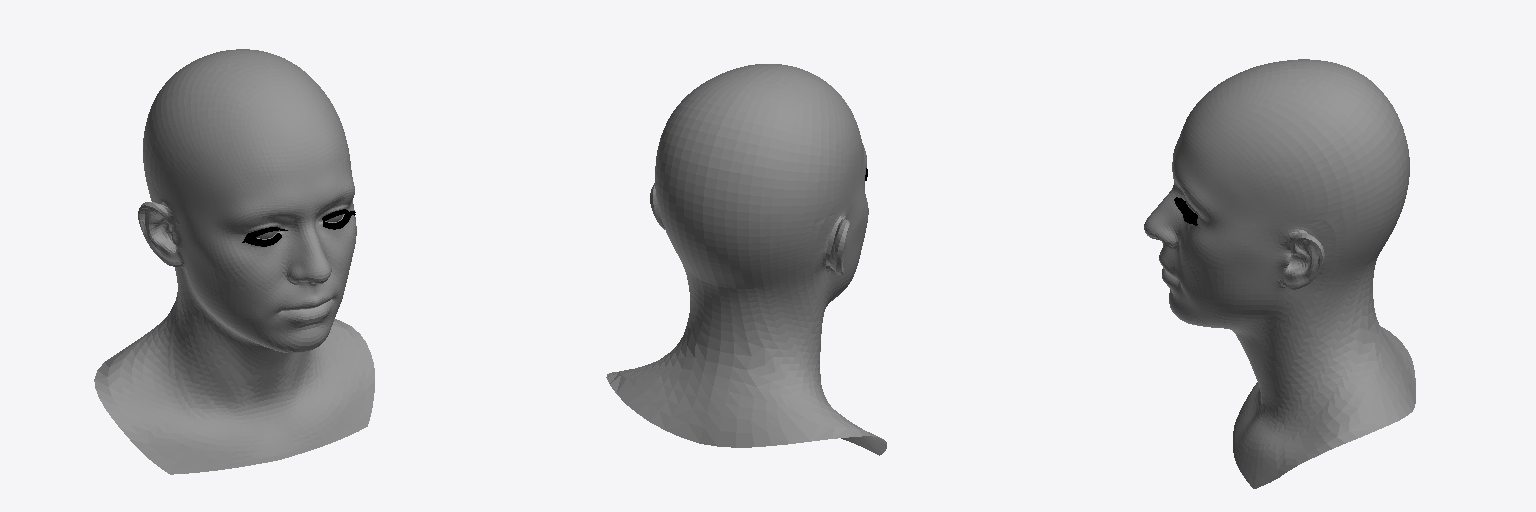
The model's file is identity086.obj.
3 views of the same model, side by side, from view 1: azimuth 30°, elevation 25°; view 2: azimuth 150°, elevation 25°; view 3: azimuth 270°, elevation 25° (orthographic).
Size of the model in its own units: 24.83 by 33.79 by 22.27.